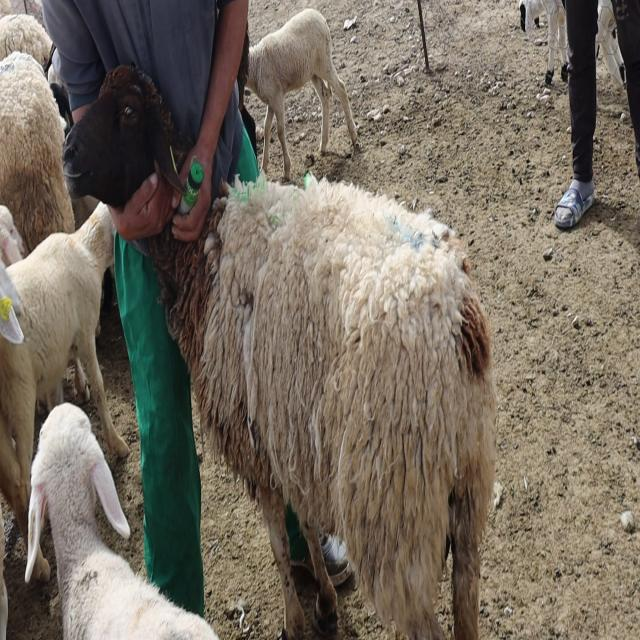Score_1: (149, 176, 496, 639)
